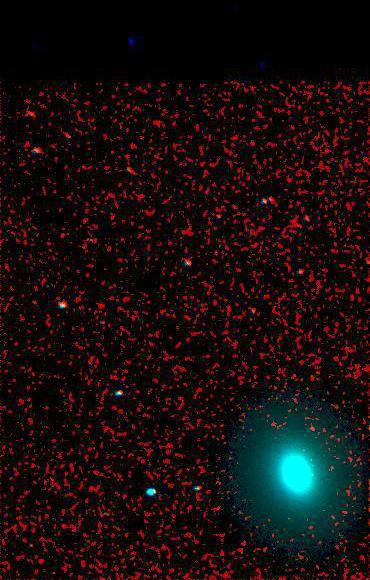star: (297, 411, 327, 441)
